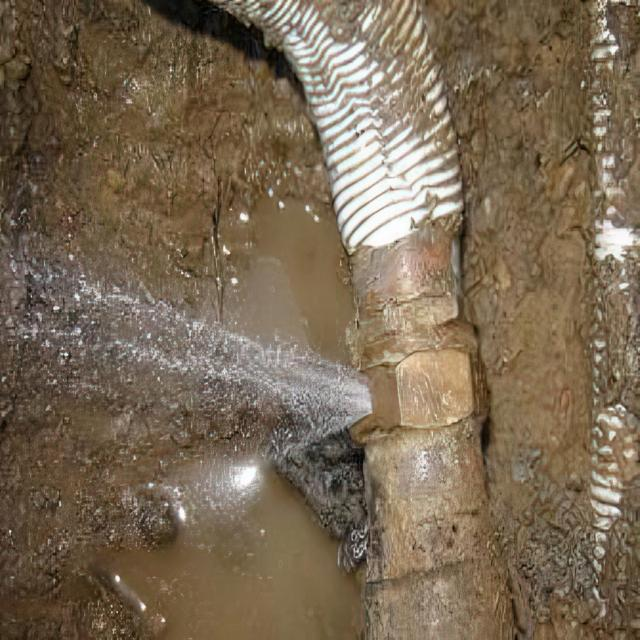leak: (0, 263, 369, 438)
